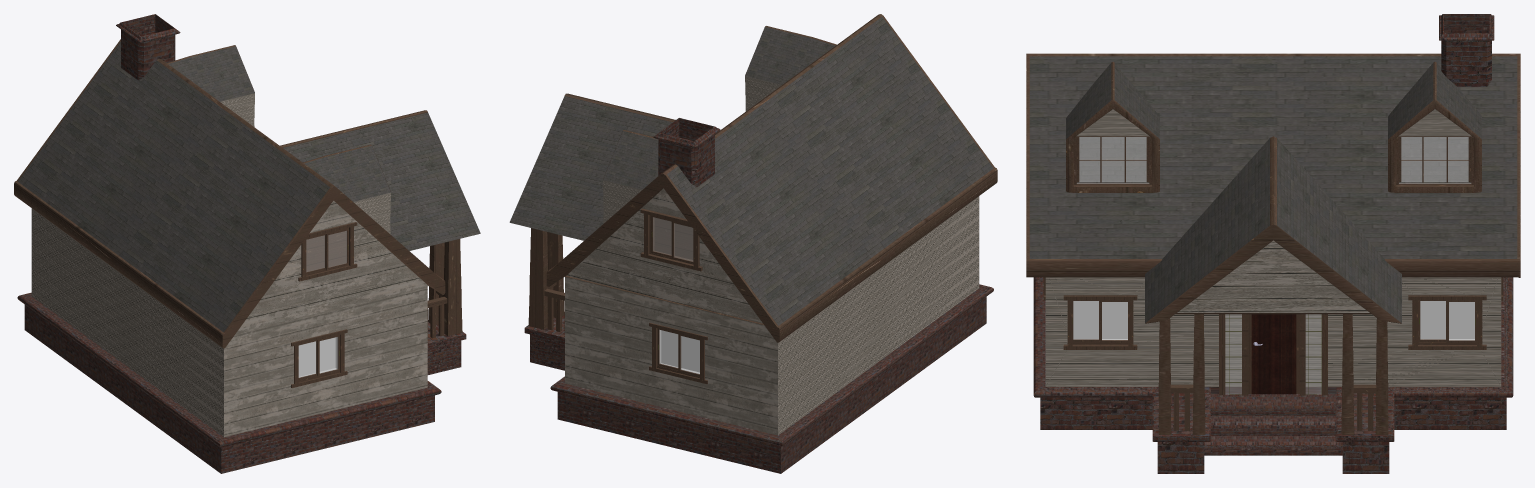
3 views of the same model, side by side, from view 1: azimuth 30°, elevation 25°; view 2: azimuth 150°, elevation 25°; view 3: azimuth 270°, elevation 25° (orthographic). The views are drawn at different scales.
Visible parts, largest first — view 1: House; view 2: House; view 3: House.
Boxes of the visible parts, <box> form: House: <box>14,14,480,473</box>; House: <box>509,14,997,473</box>; House: <box>1026,14,1520,473</box>.
Size of the model in its own units: 16.66 by 15.02 by 19.51.
17 materials, 12 textured.
